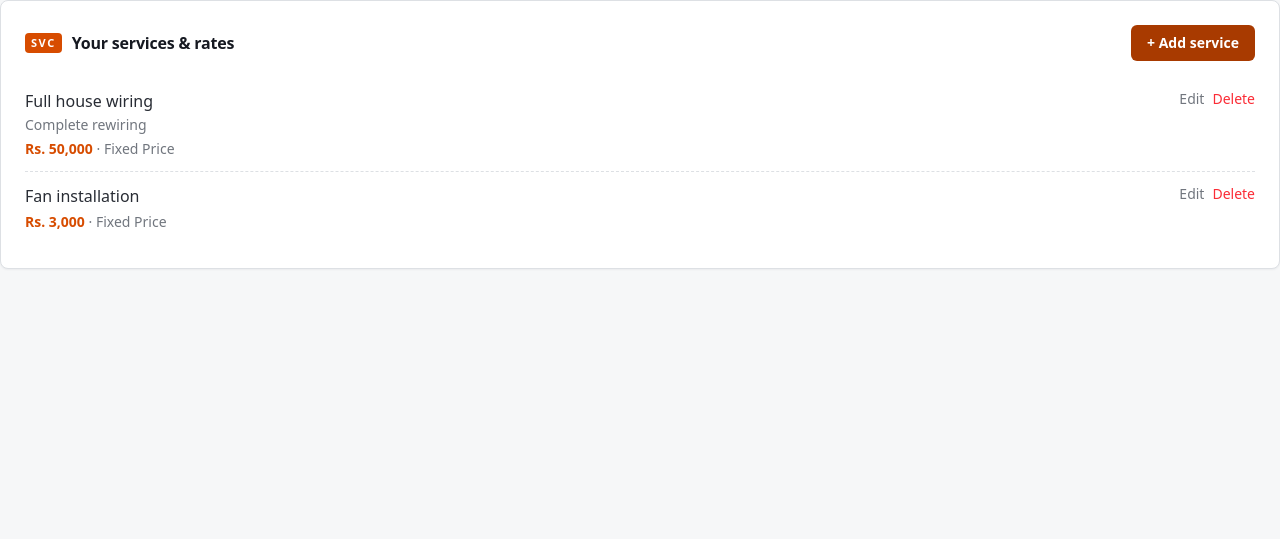
Test case: ServicesManager › disables the save button while the request is in flight
Click the button "+ Add service" at (1193, 43), box [1131,25,1255,61]
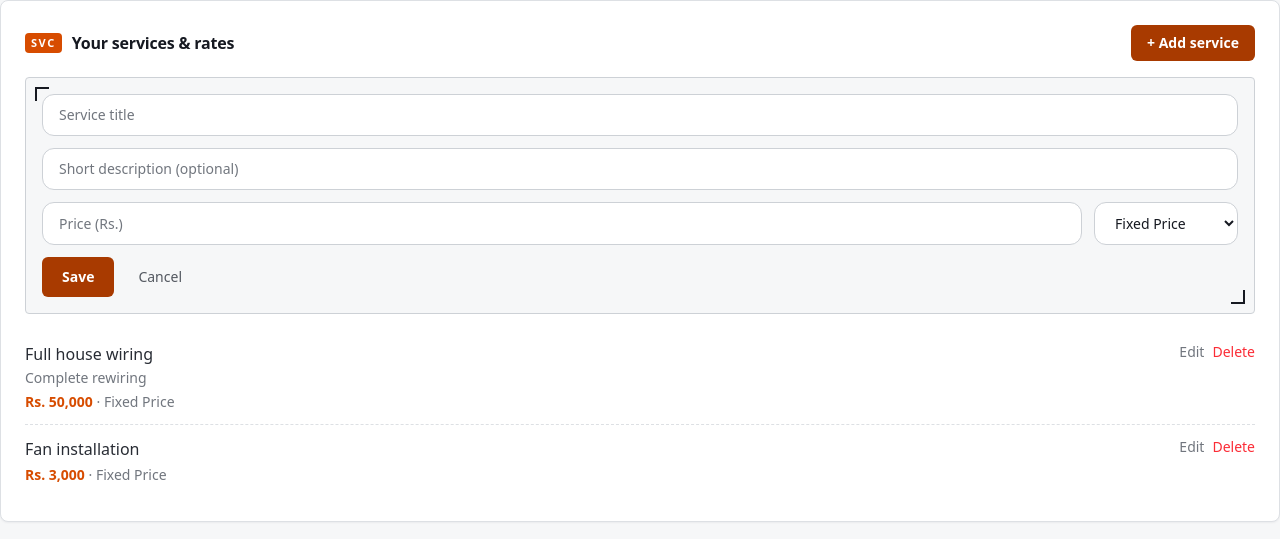
Type "Socket repair" into the field labelled "Service title" at (640, 115), box [42,94,1238,136]
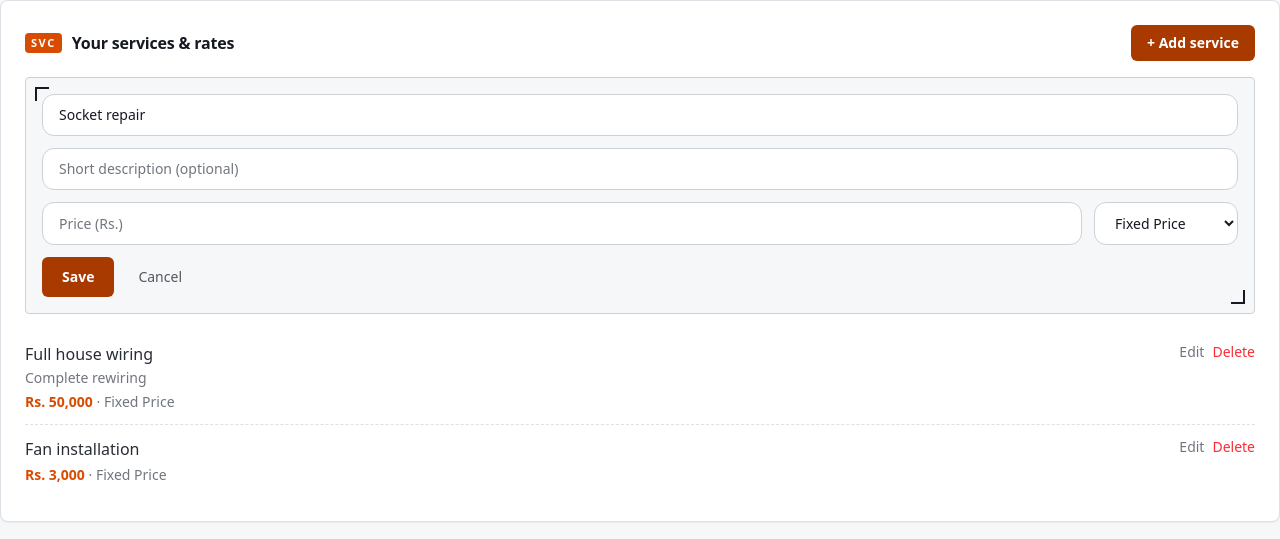
Type "1500" into the number field labelled "Price (Rs.)" at (562, 224), box [42,202,1082,245]
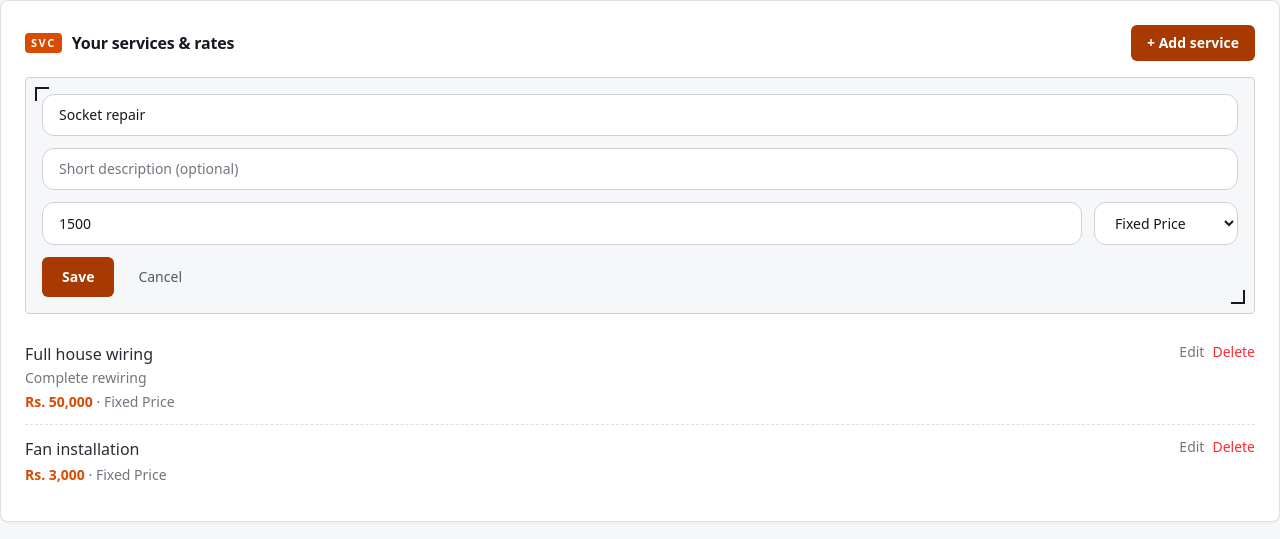
Click the button "Save" at (78, 277), box [42,257,114,297]
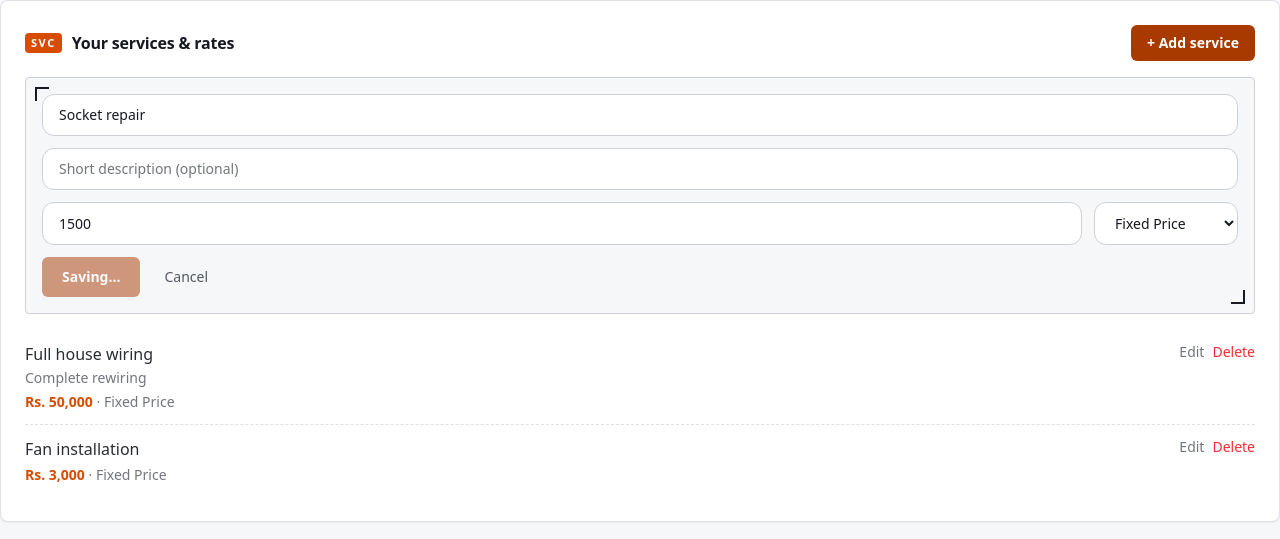
Check: the button "Saving…" is disabled, box [42,257,140,297]
